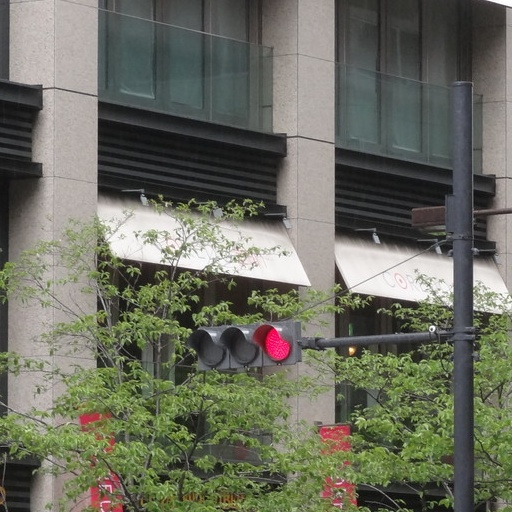Traffic_Signal_Red: (190, 319, 301, 368)
